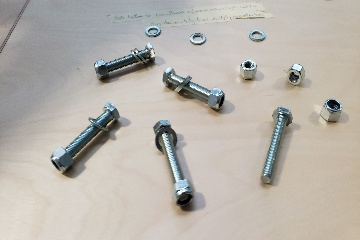Bolt: (257, 106, 293, 185)
FalseAssembly: (48, 102, 124, 178), (150, 118, 196, 210)
FinishedAssembly: (157, 64, 228, 114), (92, 42, 158, 80)
Nut: (284, 63, 308, 89), (319, 98, 343, 124), (239, 59, 258, 83)
Washer: (188, 31, 208, 45), (143, 25, 163, 38), (245, 30, 265, 43)
